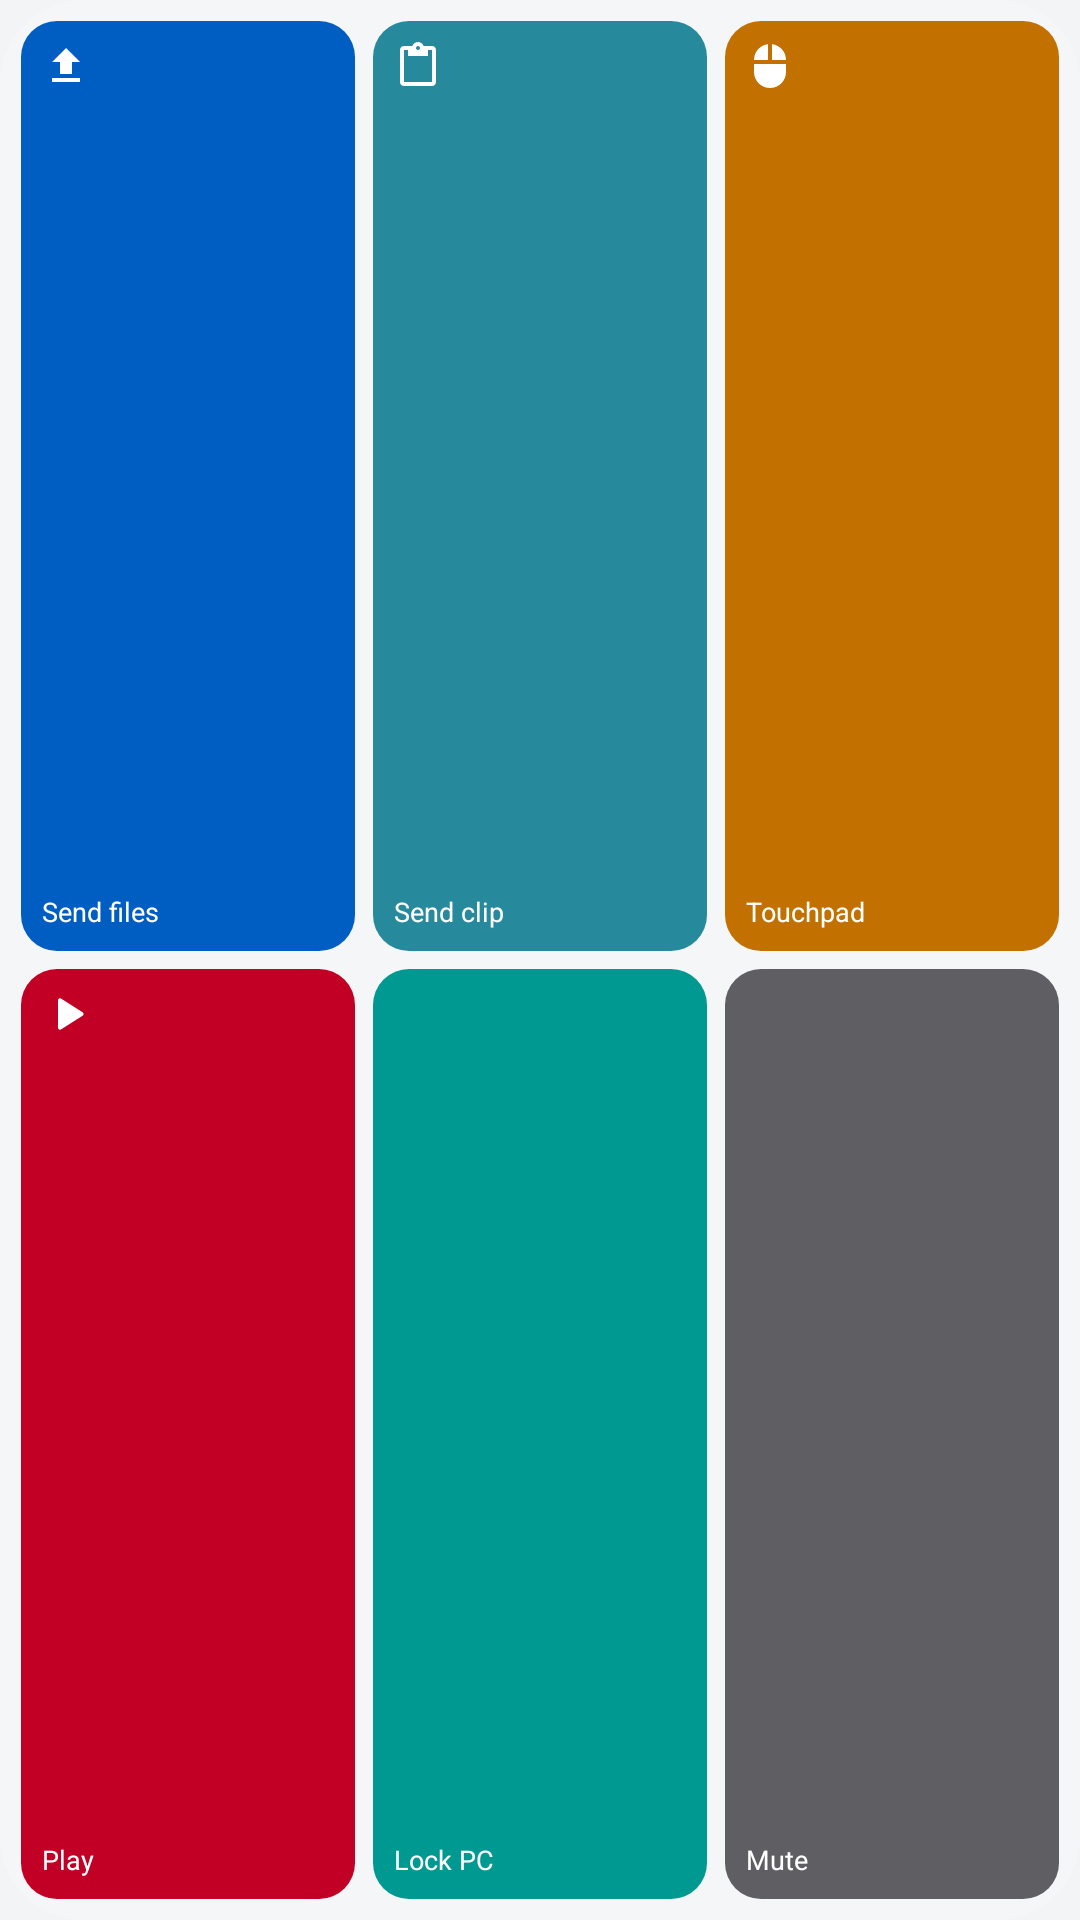

Icon bounding boxes for this 1080*1920 phone screenshot, format (x1, y1, x2, y2):
clipboard: (400, 42, 436, 86)
mouse: (754, 44, 786, 88)
play: (58, 998, 84, 1030)
upload: (52, 48, 80, 82)
